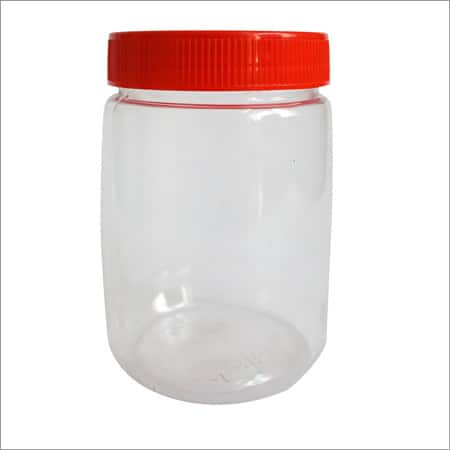Rec_Plastic: (86, 18, 350, 401)
